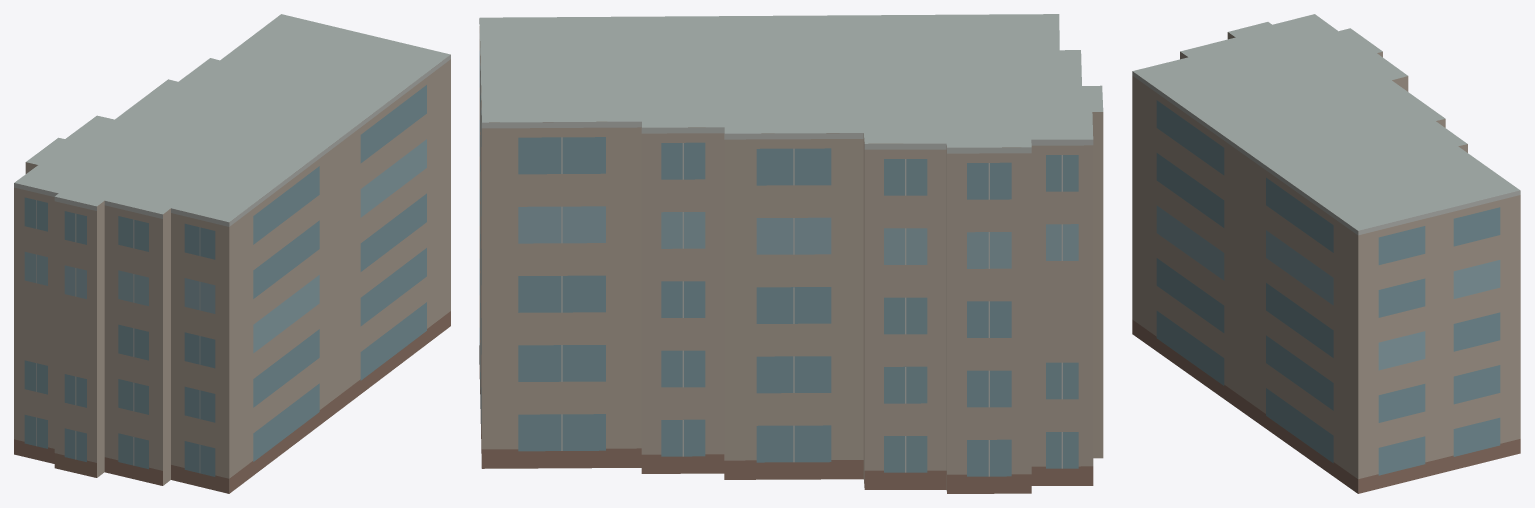
File: survey-upis-32667435.glb
The picture shows the model from 3 angles, left to right: view 1: azimuth 30°, elevation 25°; view 2: azimuth 150°, elevation 25°; view 3: azimuth 270°, elevation 25°; orthographic projection. The views are drawn at different scales.
Parts seen in each view (by area): view 1: survey-upis-32667435.tmp; view 2: survey-upis-32667435.tmp; view 3: survey-upis-32667435.tmp.
Boxes of the visible parts, left/top/right/bottom form: survey-upis-32667435.tmp: left=14, top=14, right=450, bottom=493; survey-upis-32667435.tmp: left=479, top=14, right=1103, bottom=493; survey-upis-32667435.tmp: left=1132, top=14, right=1520, bottom=493.
Size of the model in its own units: 25.12 by 14.2 by 19.
